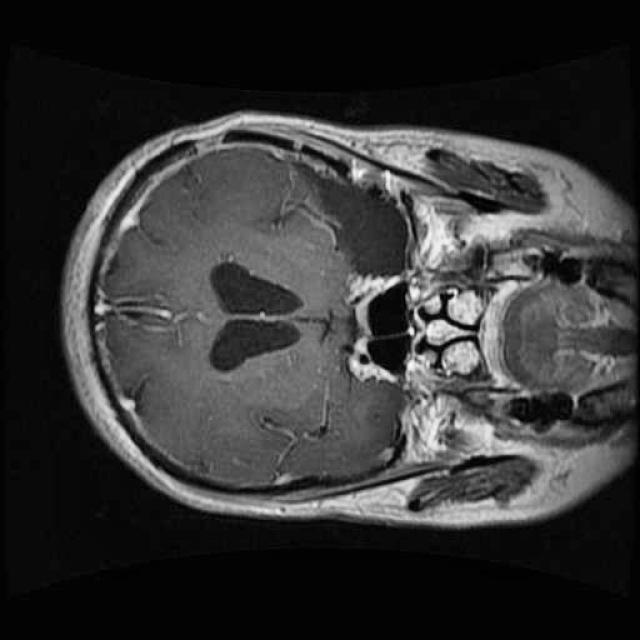Non-Tumor: (285, 143, 441, 292)
